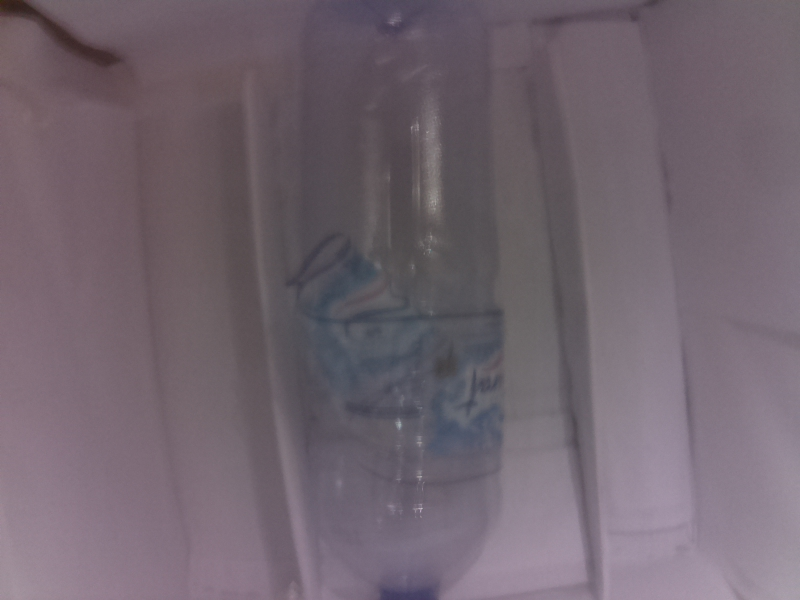botolplastik: (300, 3, 503, 600)
